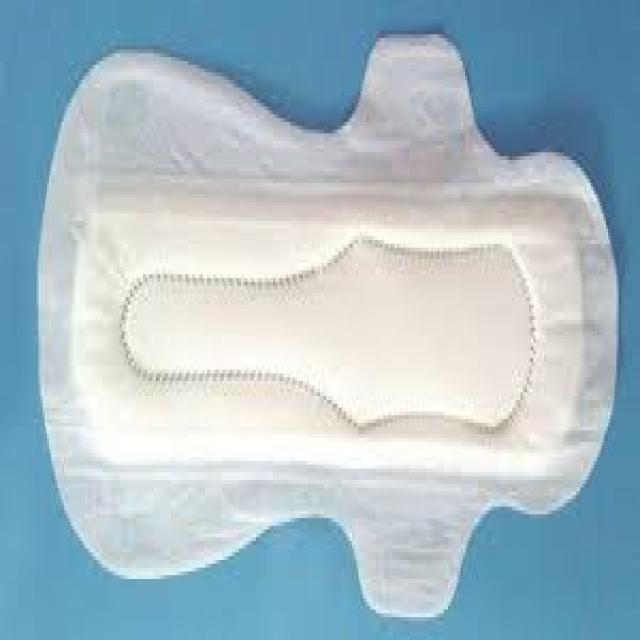napkin: (39, 36, 618, 618)
